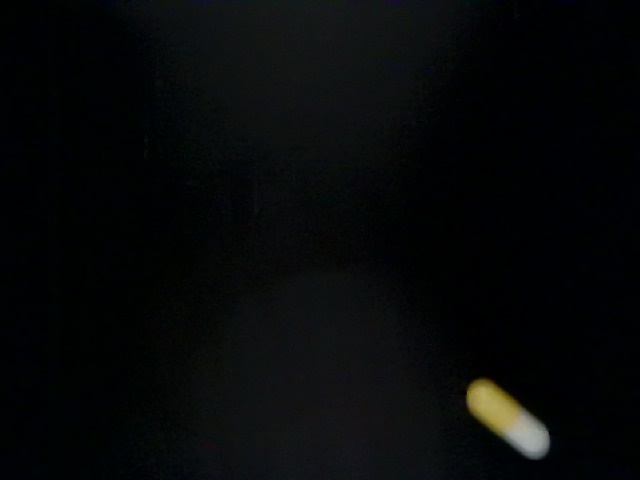YHLJ: (185, 201, 497, 297)
